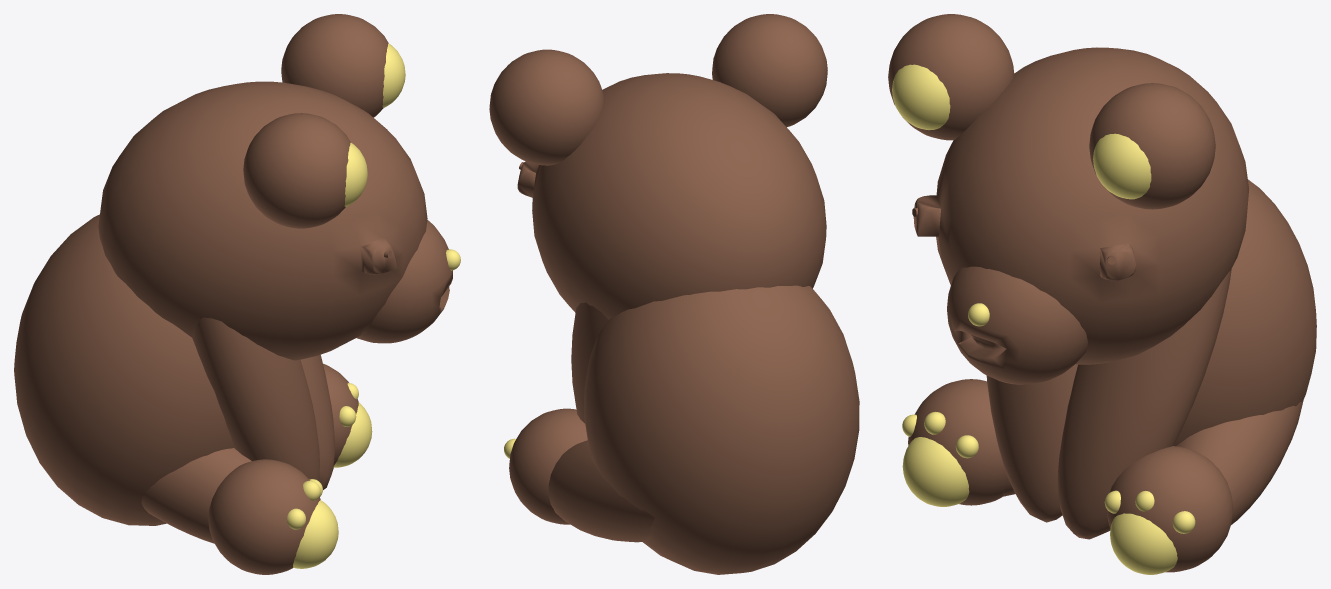
The model's file is bear.Assets.fbx.
3 views of the same model, side by side, from view 1: azimuth 30°, elevation 25°; view 2: azimuth 150°, elevation 25°; view 3: azimuth 270°, elevation 25° (orthographic). The views are drawn at different scales.
Parts seen in each view (by area): view 1: 円柱.002, 球.016, 球.010, 球.013, 球.020, 球.009, 球.011, 球.018, 球.015, 球.022, 球.019, 球.021 (+2 smaller); view 2: 球.016, 円柱.002, 球.009, 球.013, 球.017, 球.019, 球.015; view 3: 円柱.002, 球.015, 球.016, 球.011, 球.009, 球.019, 球.013, 球.010, 球.017, 球.020, 球.022, 球.021 (+2 smaller).
Part boxes in pixels (x1,y1,x2,y2): 円柱.002: (98, 81, 427, 360); 球.016: (14, 214, 233, 525); 球.010: (192, 317, 319, 481); 球.013: (243, 113, 350, 228); 球.020: (208, 459, 320, 574); 球.009: (281, 14, 388, 117); 球.011: (356, 220, 452, 343); 球.018: (141, 448, 251, 543); 球.015: (300, 355, 334, 489); 球.022: (293, 500, 338, 568); 球.019: (323, 363, 358, 465); 球.021: (333, 402, 372, 467); 球.016: (584, 285, 859, 574); 円柱.002: (517, 73, 826, 319); 球.009: (489, 49, 604, 165); 球.013: (712, 14, 827, 126); 球.017: (548, 440, 654, 542); 球.019: (509, 408, 587, 524); 球.015: (571, 302, 608, 423); 円柱.002: (912, 47, 1248, 364); 球.015: (1057, 269, 1231, 539); 球.016: (1173, 179, 1316, 446); 球.011: (947, 266, 1087, 384); 球.009: (1089, 83, 1215, 209); 球.019: (1107, 446, 1233, 572); 球.013: (888, 14, 1014, 140); 球.010: (986, 364, 1077, 522); 球.017: (1176, 400, 1303, 524); 球.020: (908, 379, 1008, 505); 球.022: (902, 437, 969, 506); 球.021: (1110, 513, 1177, 574).
Size of the model in its own units: 128 by 158 by 123.
